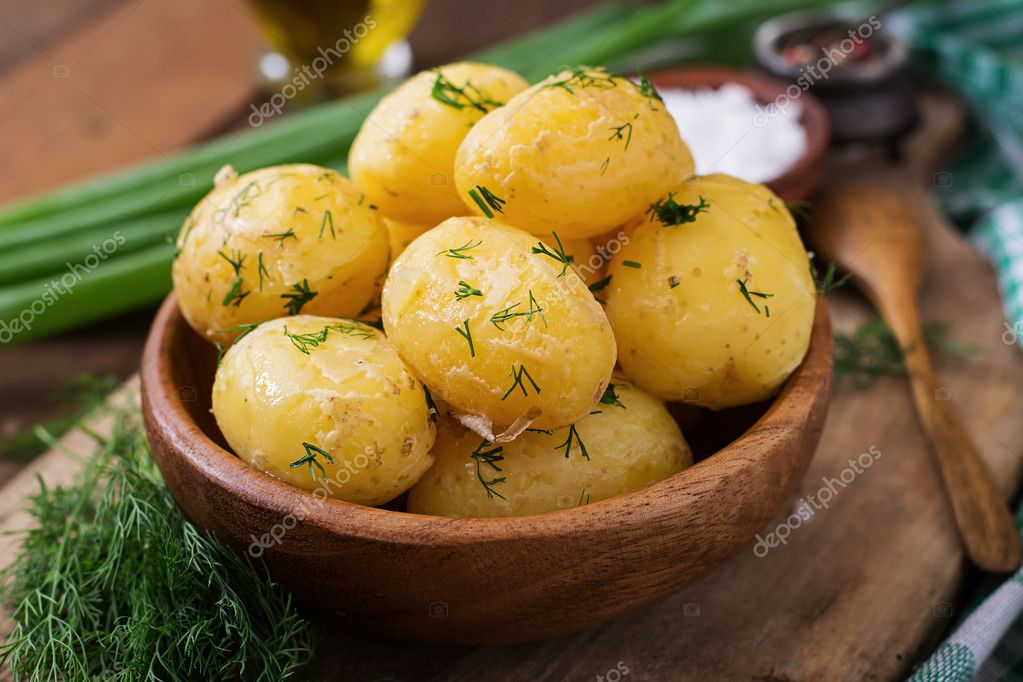boiled potatoes: (222, 184, 750, 423)
